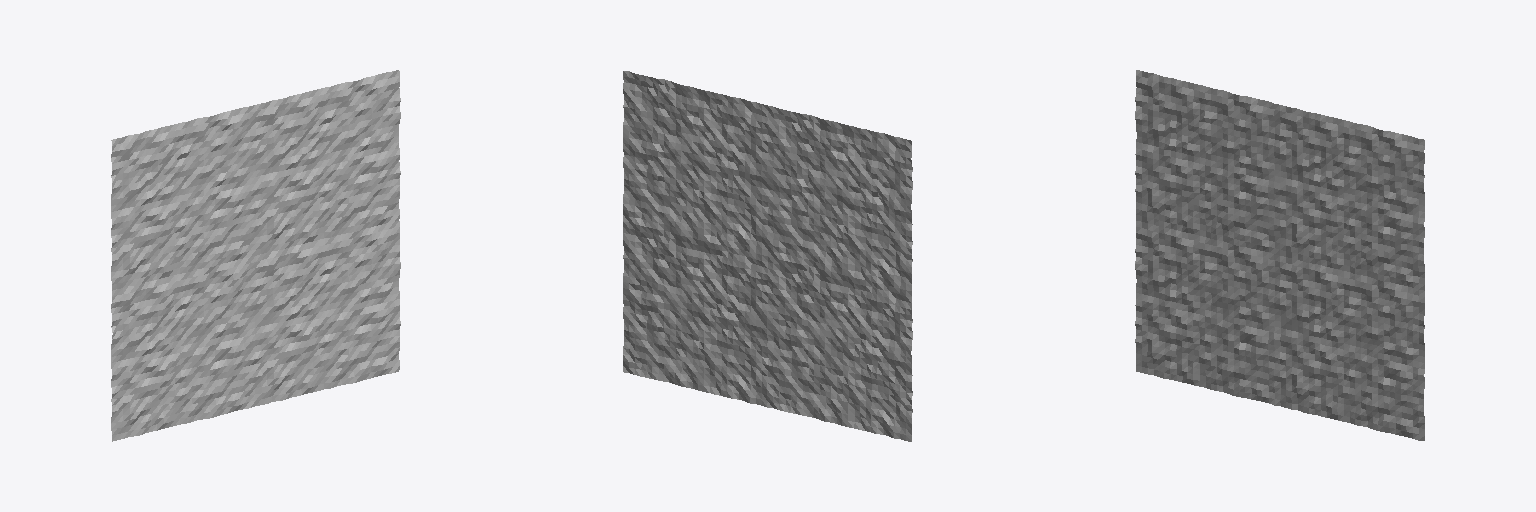
Rendered from terrain1.obj.
3 renders of one model, left to right at view 1: azimuth 30°, elevation 25°; view 2: azimuth 150°, elevation 25°; view 3: azimuth 330°, elevation 25°, orthographic.
Parts seen in each view (by area): view 1: Plane02; view 2: Plane02; view 3: Plane02.
Boxes of the visible parts, <box> form: Plane02: <box>111,70,400,441</box>; Plane02: <box>623,71,912,441</box>; Plane02: <box>1135,70,1424,440</box>.
Size of the model in its own units: 1000 by 1000 by 13.89.